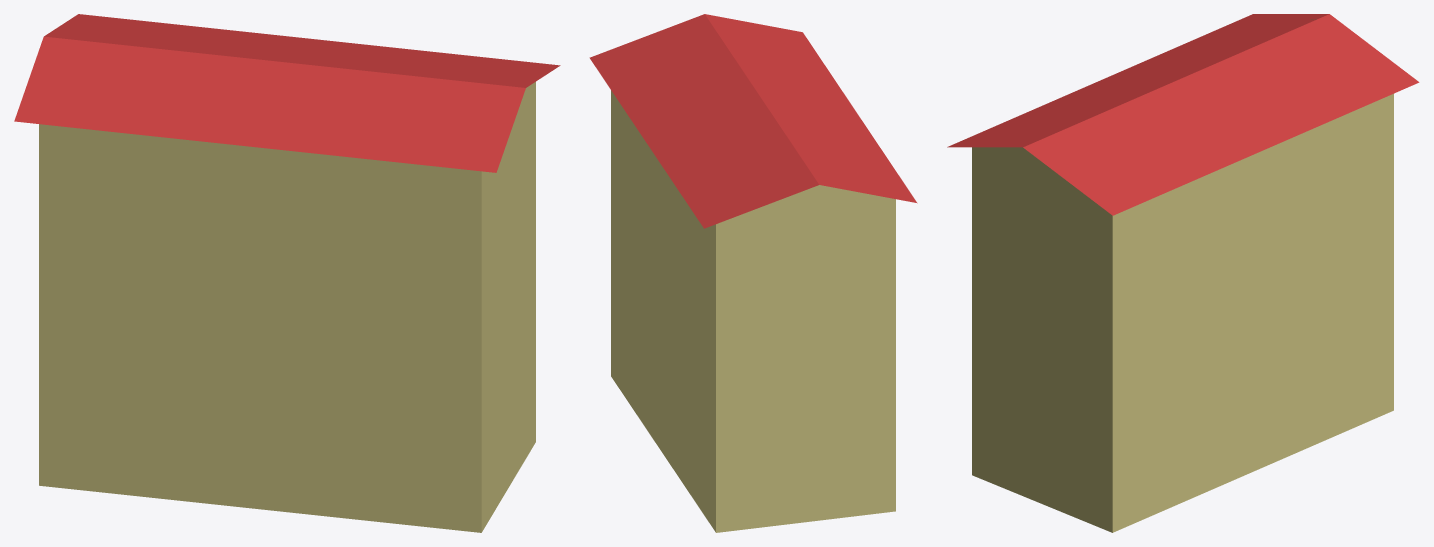
3 views of the same model, side by side, from view 1: azimuth 30°, elevation 25°; view 2: azimuth 150°, elevation 25°; view 3: azimuth 270°, elevation 25° (orthographic). The views are drawn at different scales.
Parts seen in each view (by area): view 1: group_5, group_3; view 2: group_5, group_3; view 3: group_5, group_3.
Boxes of the visible parts, x1=… form: group_5: x1=39, y1=82, x2=535, y2=532; group_3: x1=14, y1=14, x2=560, y2=172; group_5: x1=611, y1=90, x2=895, y2=532; group_3: x1=589, y1=14, x2=917, y2=228; group_5: x1=972, y1=19, x2=1393, y2=532; group_3: x1=947, y1=14, x2=1419, y2=215.
Size of the model in its own units: 6.58 by 6.52 by 5.46.
